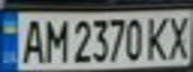0: (124, 15, 145, 62)
2: (69, 16, 93, 64)
3: (90, 16, 112, 63)
7: (109, 16, 127, 63)
A: (15, 16, 48, 64)
K: (145, 14, 172, 62)
M: (39, 16, 69, 64)
X: (163, 12, 193, 60)
